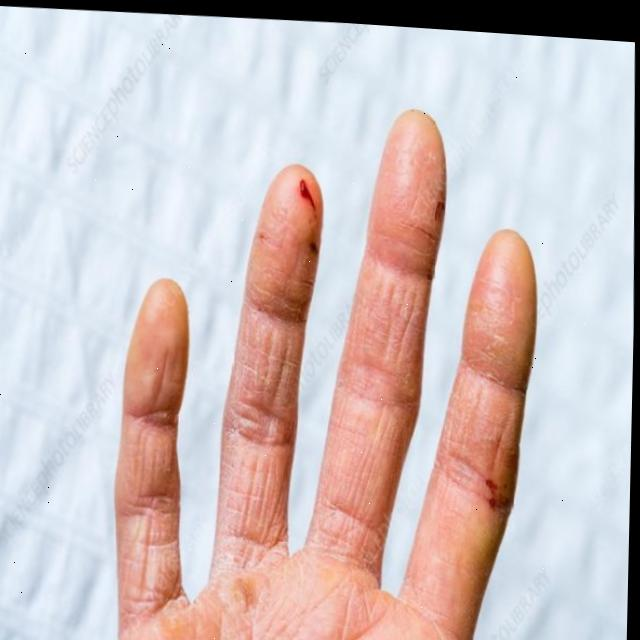Eczema: (266, 178, 511, 596), (102, 449, 239, 640)
